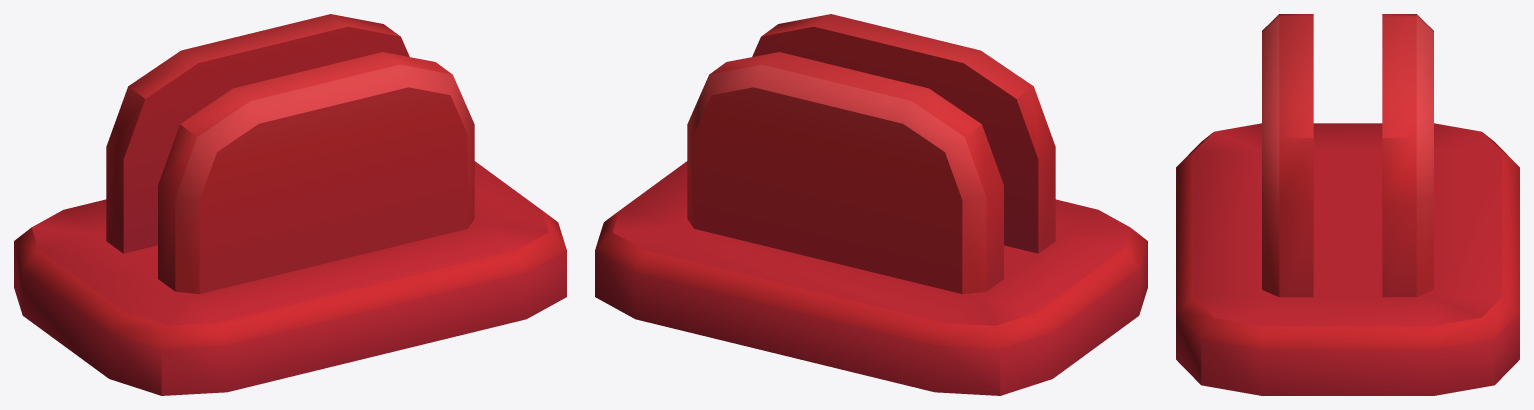
The model's file is playerstand_red.glb.
3 renders of one model, left to right at view 1: azimuth 30°, elevation 25°; view 2: azimuth 150°, elevation 25°; view 3: azimuth 270°, elevation 25°, orthographic.
Parts seen in each view (by area): view 1: playerstand_red; view 2: playerstand_red; view 3: playerstand_red.
Boxes of the visible parts, x1,y1,x2,y2 form: playerstand_red: (14, 14, 566, 395); playerstand_red: (595, 14, 1147, 395); playerstand_red: (1176, 14, 1519, 395).
Size of the model in its own units: 0.75 by 0.375 by 0.5.
1 material, 1 textured.
